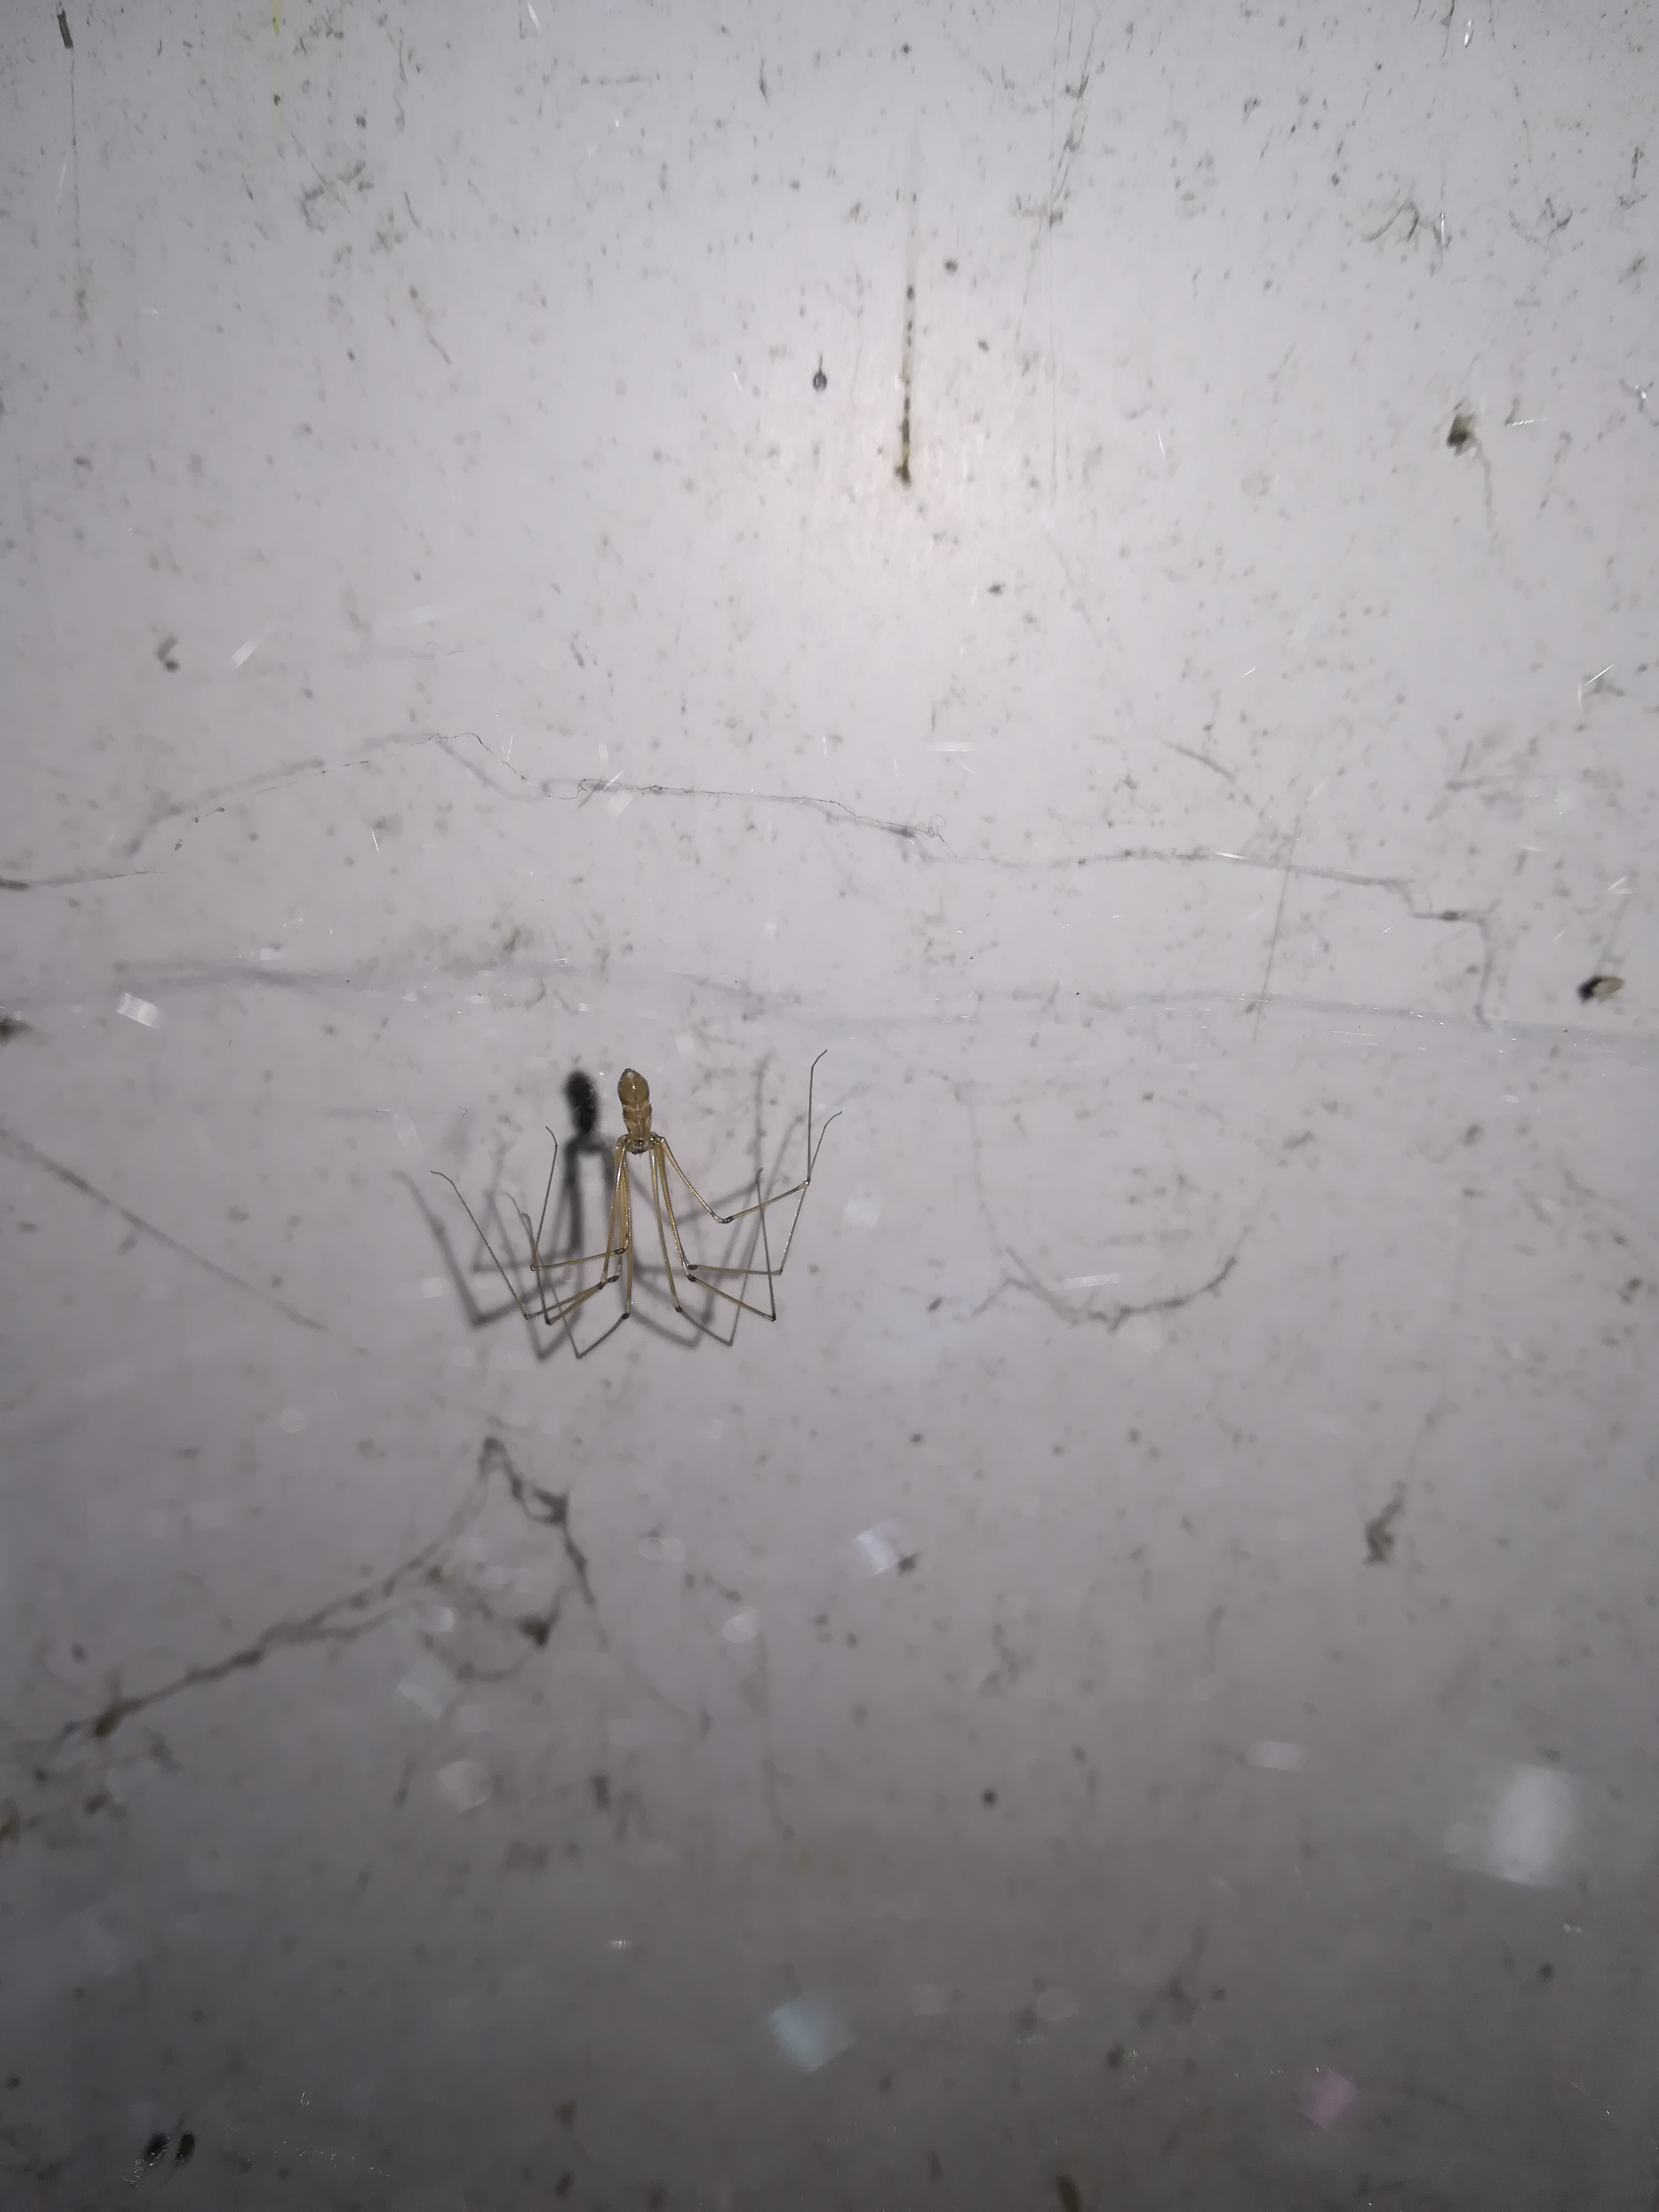spider: (408, 998, 892, 1392)
